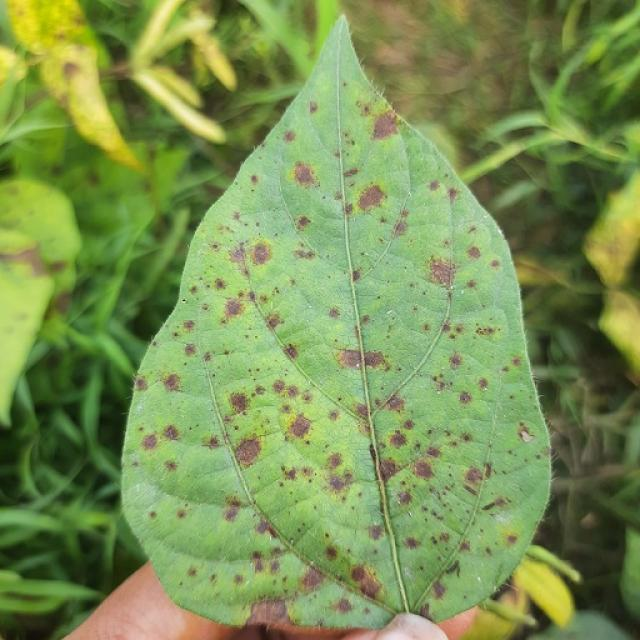Anthracnose: (334, 343, 407, 381), (362, 111, 405, 147), (428, 256, 456, 293), (233, 437, 263, 467), (357, 184, 386, 212), (287, 414, 313, 440), (293, 160, 317, 187), (300, 566, 325, 591), (222, 297, 245, 320), (228, 391, 250, 414), (250, 241, 271, 265), (162, 373, 181, 392), (140, 433, 158, 450), (223, 504, 240, 522), (254, 518, 271, 535), (295, 248, 316, 261), (163, 425, 179, 441), (283, 344, 298, 360), (393, 220, 408, 236), (296, 215, 311, 230), (183, 342, 197, 357), (271, 380, 286, 394), (447, 186, 460, 202), (467, 245, 481, 259), (213, 278, 227, 291), (182, 319, 195, 332), (343, 168, 359, 178), (328, 307, 341, 319), (283, 130, 296, 142), (187, 566, 198, 578), (351, 269, 361, 282), (247, 291, 257, 302), (309, 101, 318, 113), (490, 259, 500, 269), (250, 174, 259, 185), (343, 82, 348, 88), (181, 298, 187, 303), (255, 254, 256, 260)
Blackgram: (122, 19, 550, 628)
